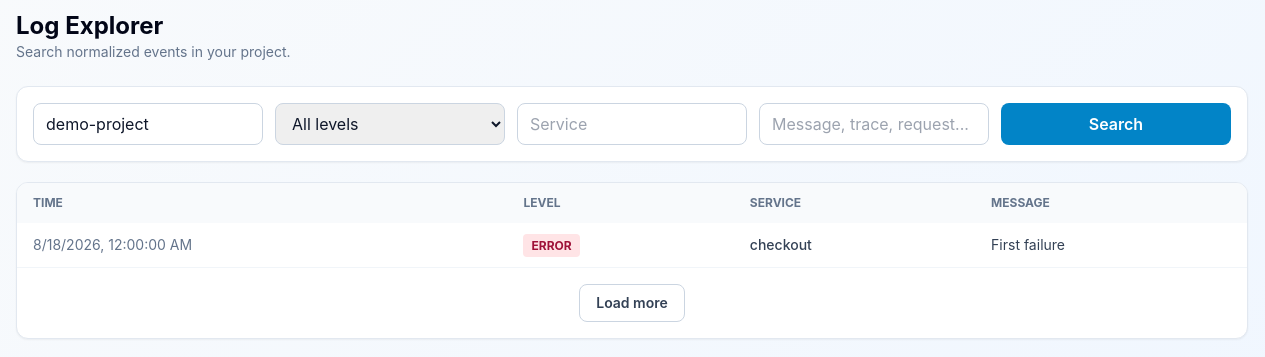
LogExplorerPage › loads the next cursor page without discarding the first page
This screenshot has width=1265, height=357.
Expected: the text "First failure" is shown, [975,223,1247,267]
Click the button "Load more" at (632, 303), box [579,284,685,322]
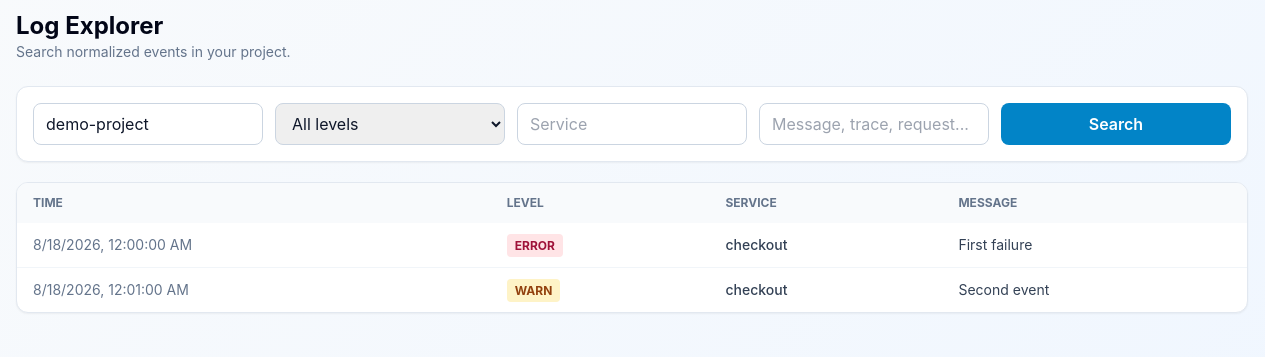
Expected: the text "First failure" is shown, [942,223,1247,268]
Expected: the text "Second event" is shown, [942,268,1247,312]
